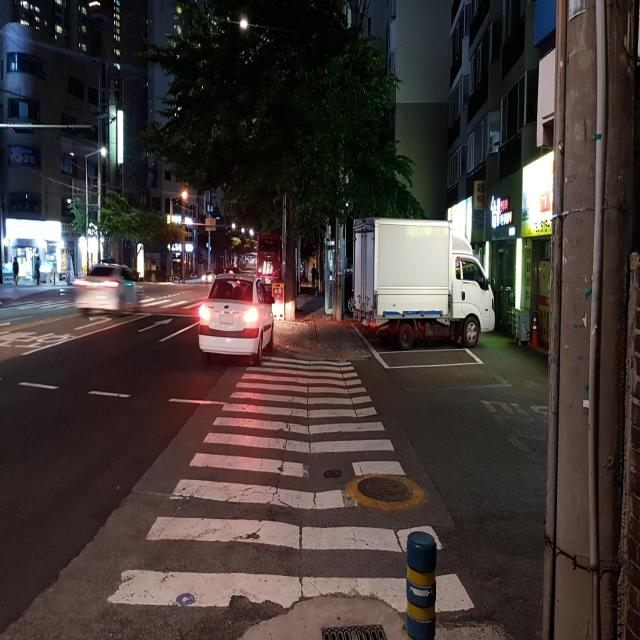횡단보도: (107, 355, 476, 616)
